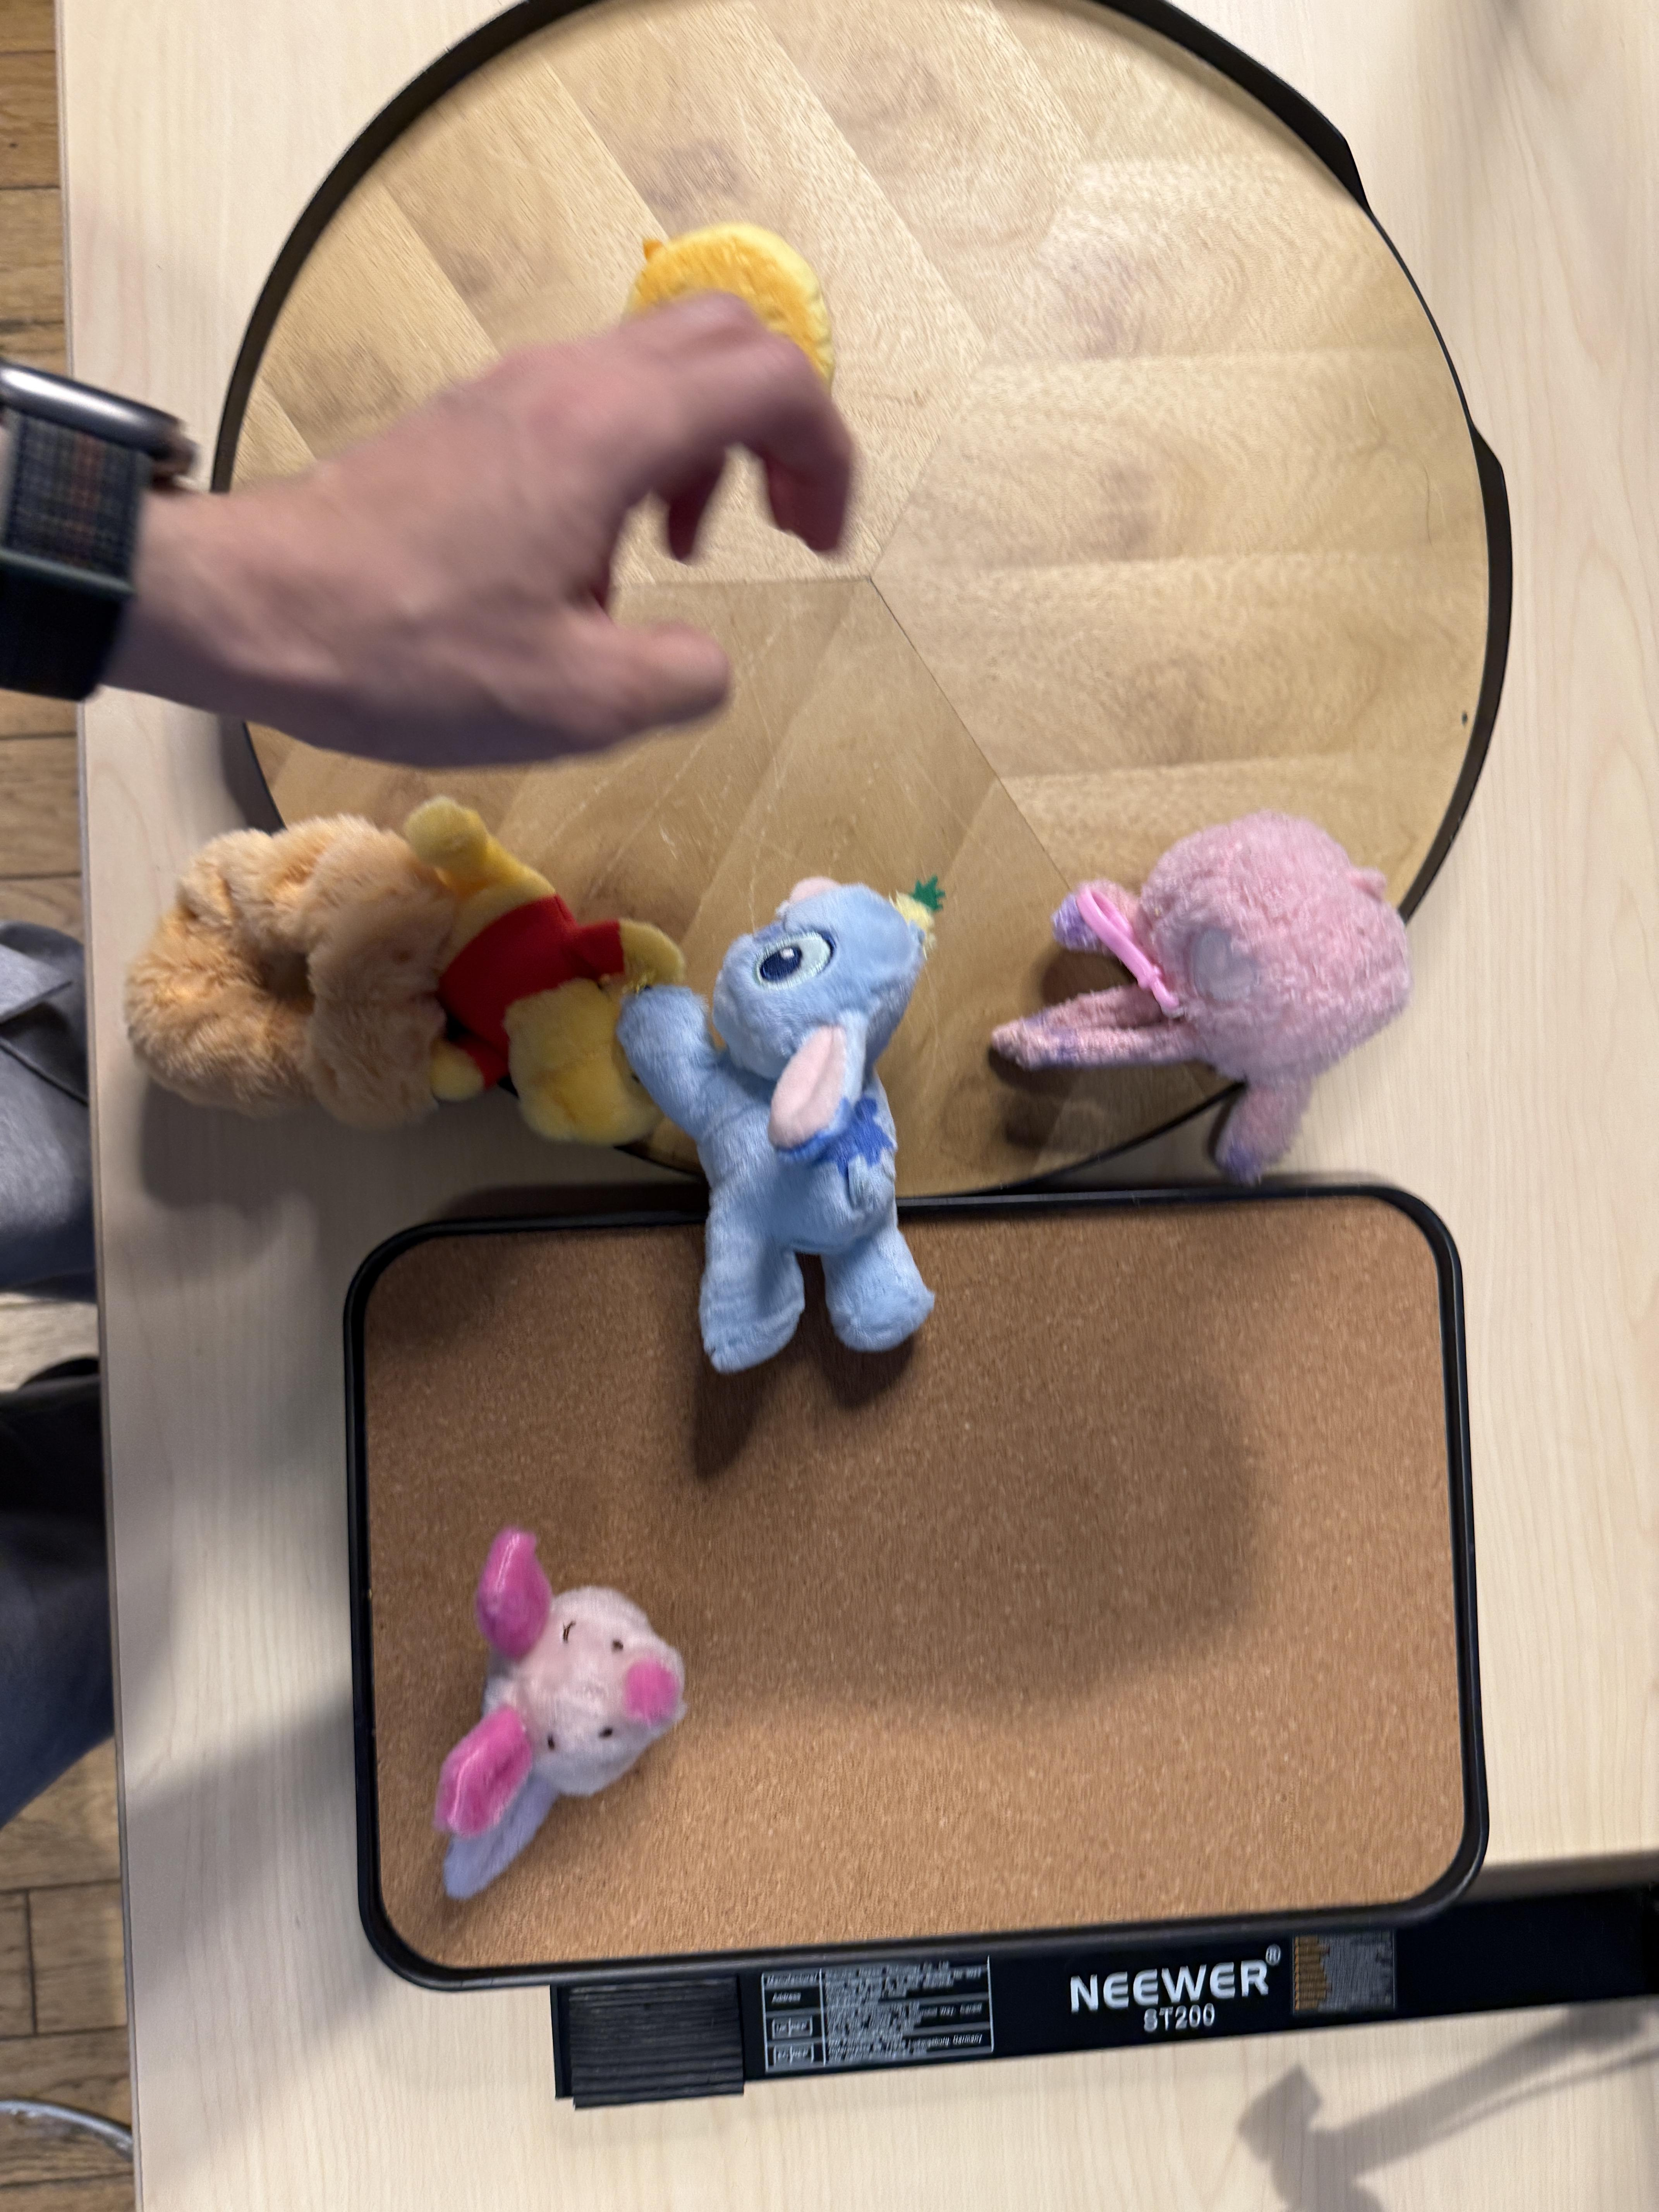bread: (624, 240, 842, 406)
doll: (120, 791, 687, 1148), (992, 813, 1425, 1176), (631, 871, 941, 1371), (437, 1529, 690, 1897)
